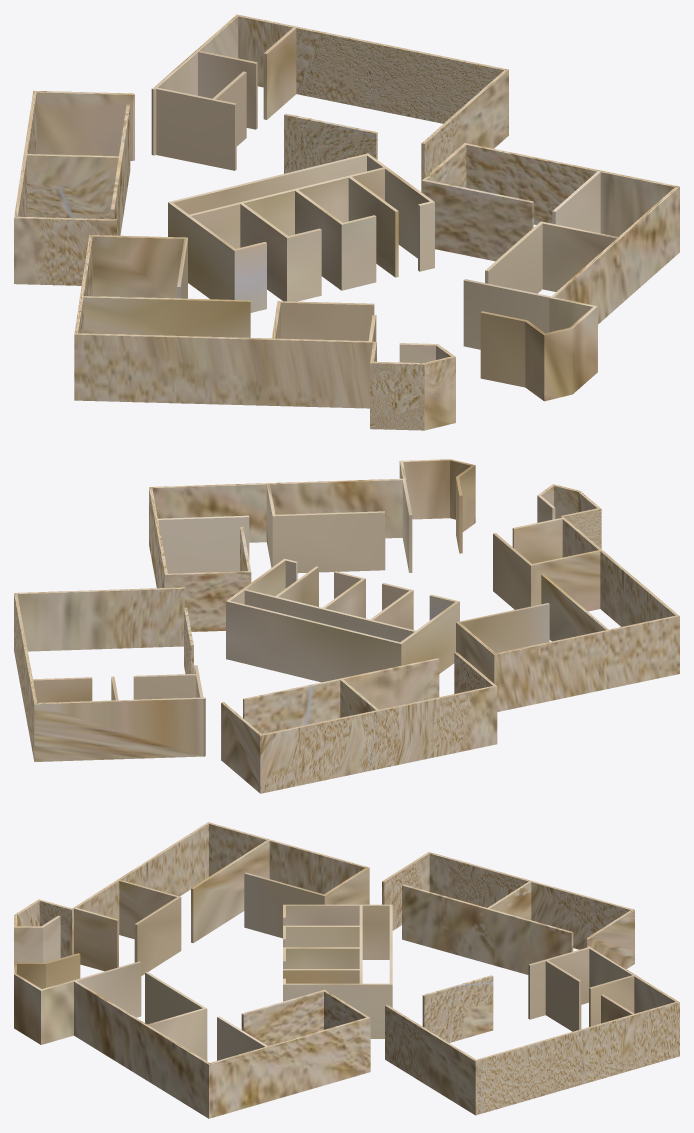
The model's file is pared.dae.
3 renders of one model, top to bottom at view 1: azimuth 30°, elevation 25°; view 2: azimuth 150°, elevation 25°; view 3: azimuth 270°, elevation 25°, orthographic. The views are drawn at different scales.
Parts seen in each view (by area): view 1: PLANO_POSGRADO_Corregido_paredes; view 2: PLANO_POSGRADO_Corregido_paredes; view 3: PLANO_POSGRADO_Corregido_paredes.
Part boxes in pixels (<box>): PLANO_POSGRADO_Corregido_paredes: <box>14,14,679,430</box>; PLANO_POSGRADO_Corregido_paredes: <box>14,459,679,793</box>; PLANO_POSGRADO_Corregido_paredes: <box>14,822,679,1118</box>.
Size of the model in its own units: 28.85 by 33.46 by 3.
Materials: 1 (1 with a texture image).
